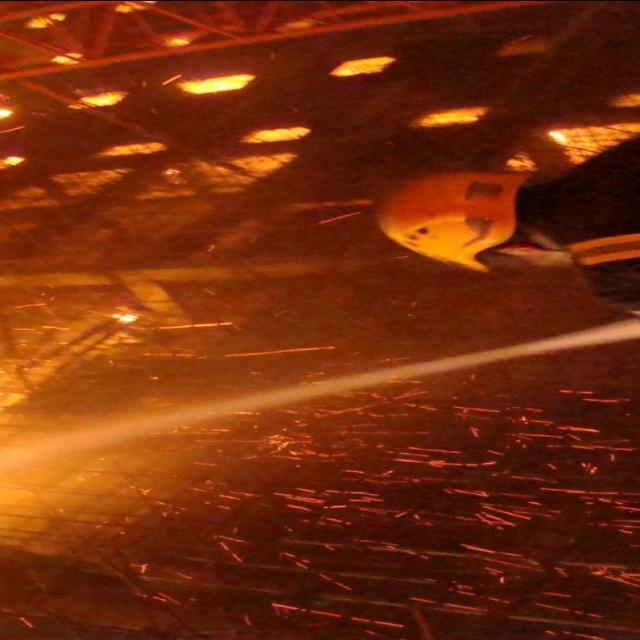Fire: (9, 0, 480, 170)
